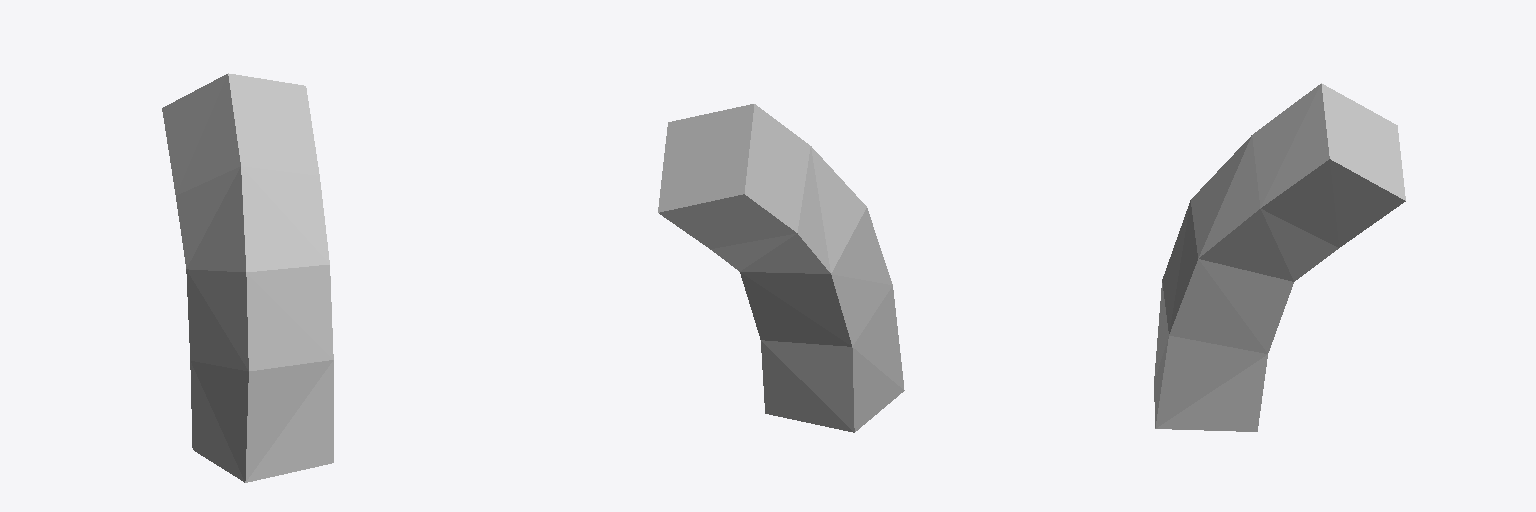
The model's file is wiggle_000023.obj.
The picture shows the model from 3 angles: view 1: azimuth 30°, elevation 25°; view 2: azimuth 150°, elevation 25°; view 3: azimuth 270°, elevation 25°; orthographic projection.
Visible parts, largest first — view 1: Cube; view 2: Cube; view 3: Cube.
Part boxes in pixels (x1,y1,x2,y2): Cube: (162, 73, 333, 482); Cube: (658, 104, 904, 432); Cube: (1154, 83, 1405, 431).
Bounding box in the file's own units: 3.36 × 7.24 × 4.89.